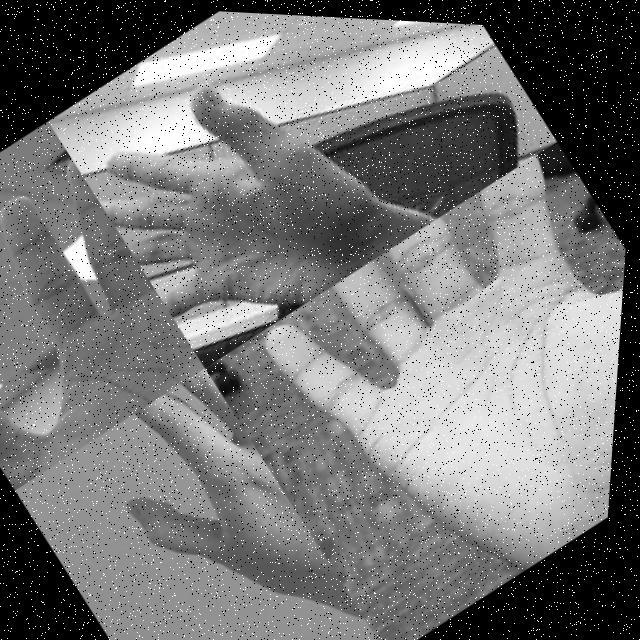no-gloves: (245, 121, 634, 625), (65, 28, 410, 372), (80, 360, 378, 640), (0, 149, 219, 496)
